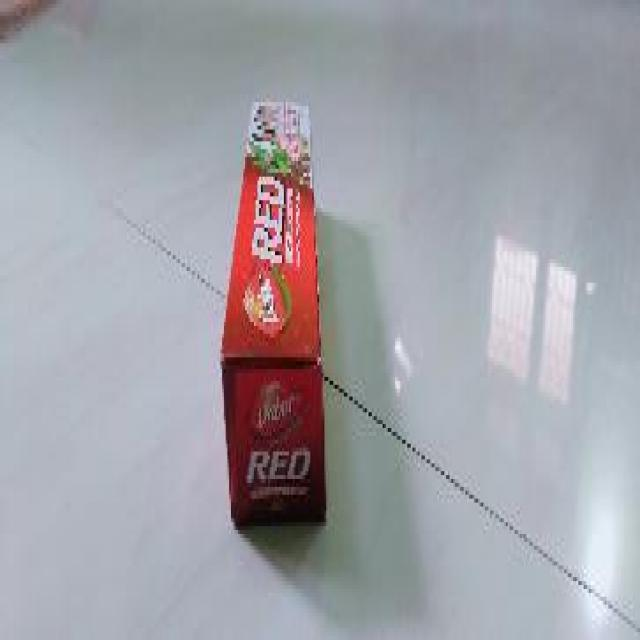tooth paste: (214, 99, 335, 531)
